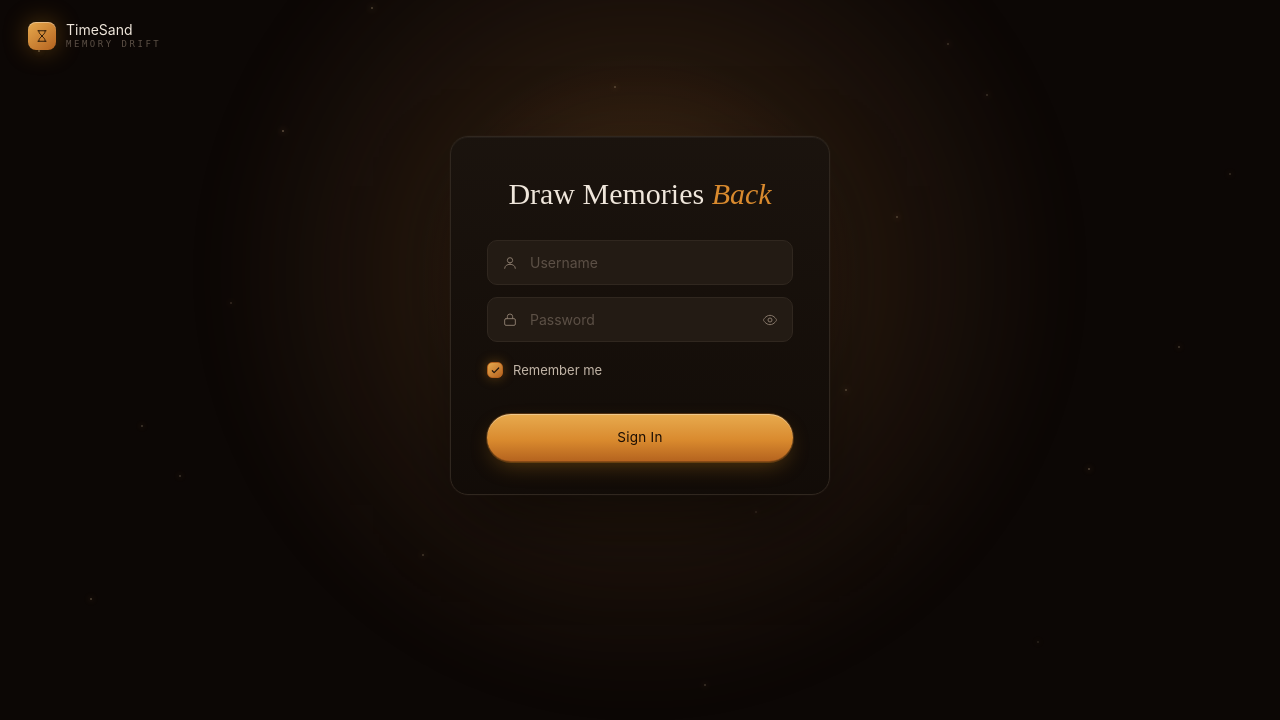
Test: loginPage › replaces the form with an uninitialized system notice after a 503
Type "admin" into the field with placeholder "Username" at (640, 262), box [488,241,792,284]
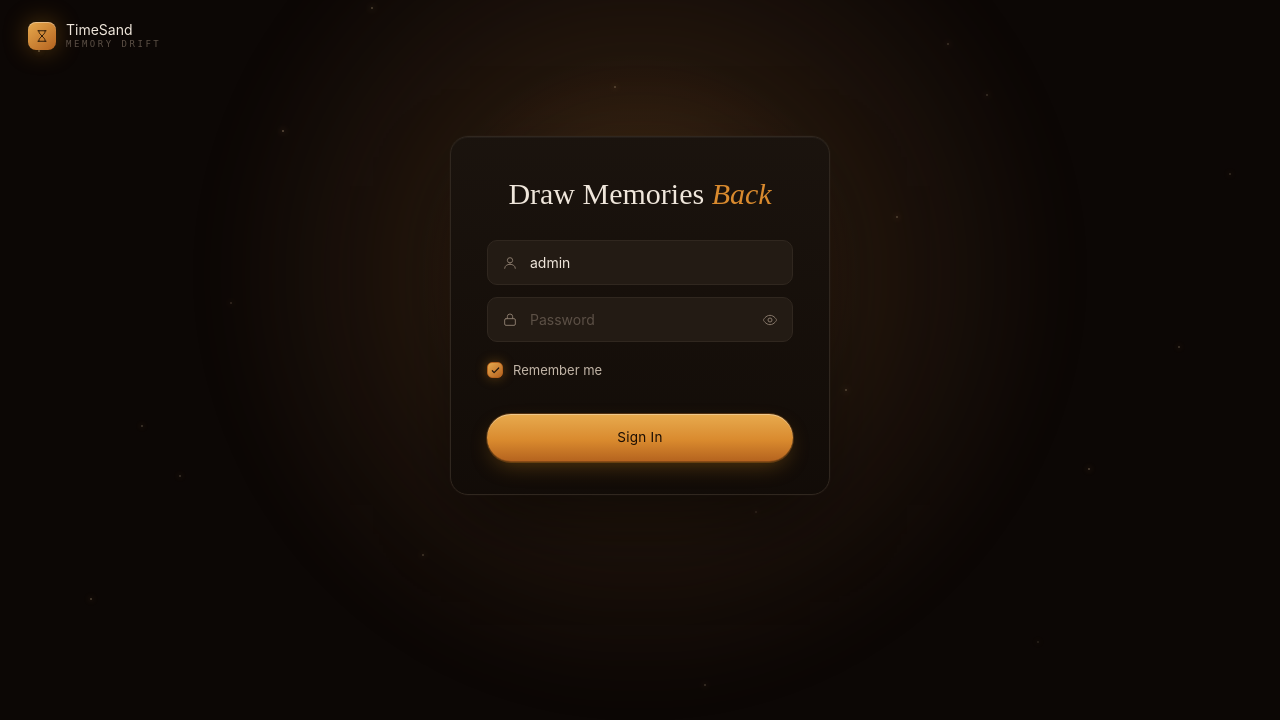
Type "timesand123" into the password field with placeholder "Password" at (640, 320), box [488,298,792,341]
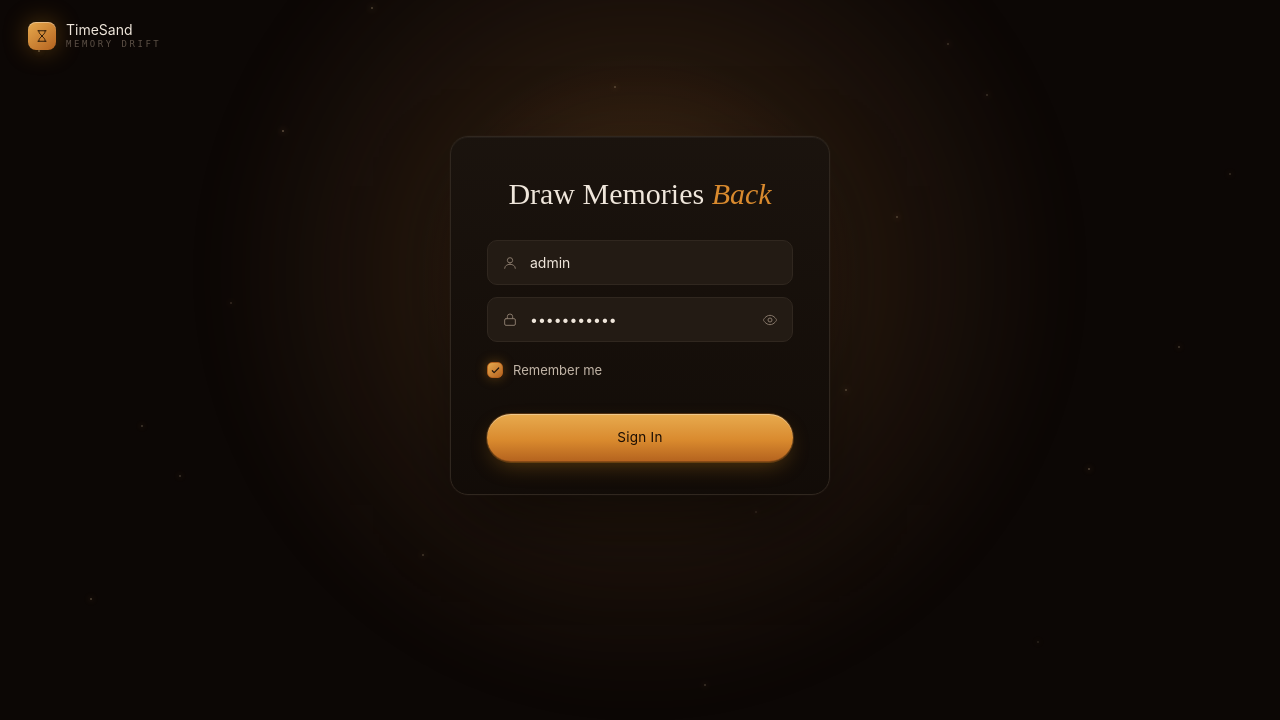
Submit the form, box [487,240,793,462]
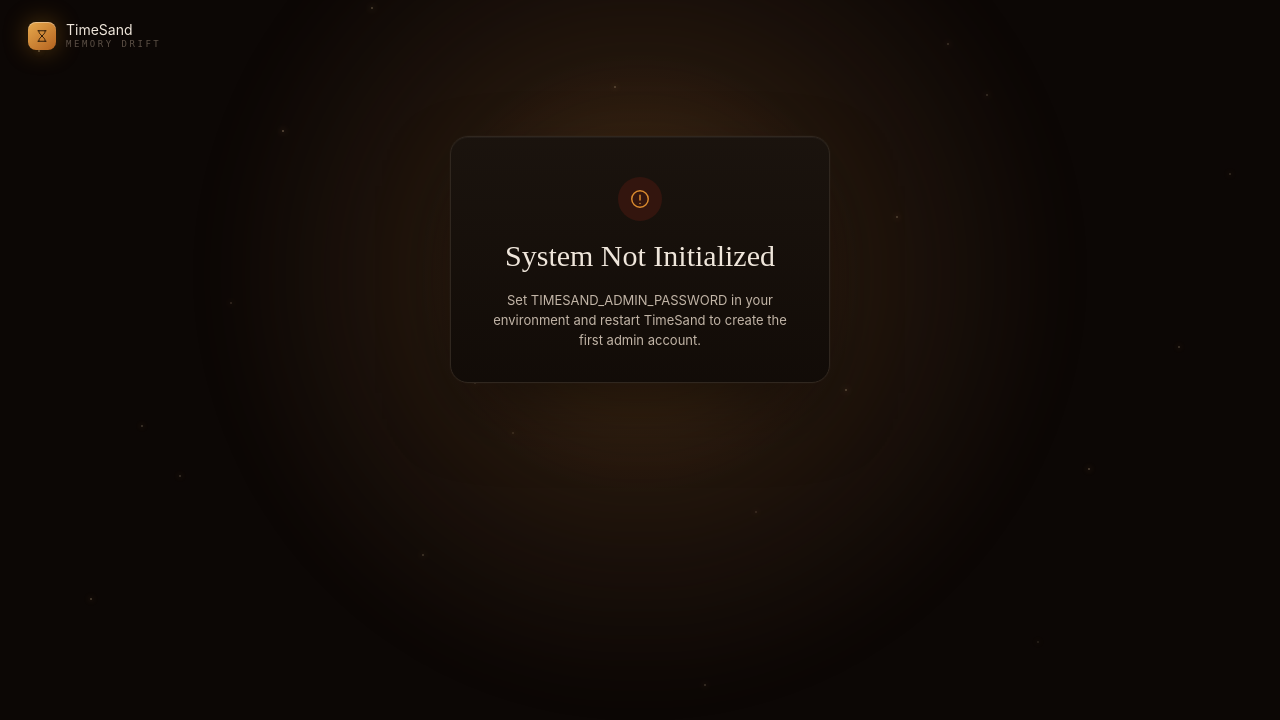
Now the text "System Not Initialized" is shown, box [487,239,793,272]
Now the text "TIMESAND_ADMIN_PASSWORD" is shown, box [493,292,787,348]
